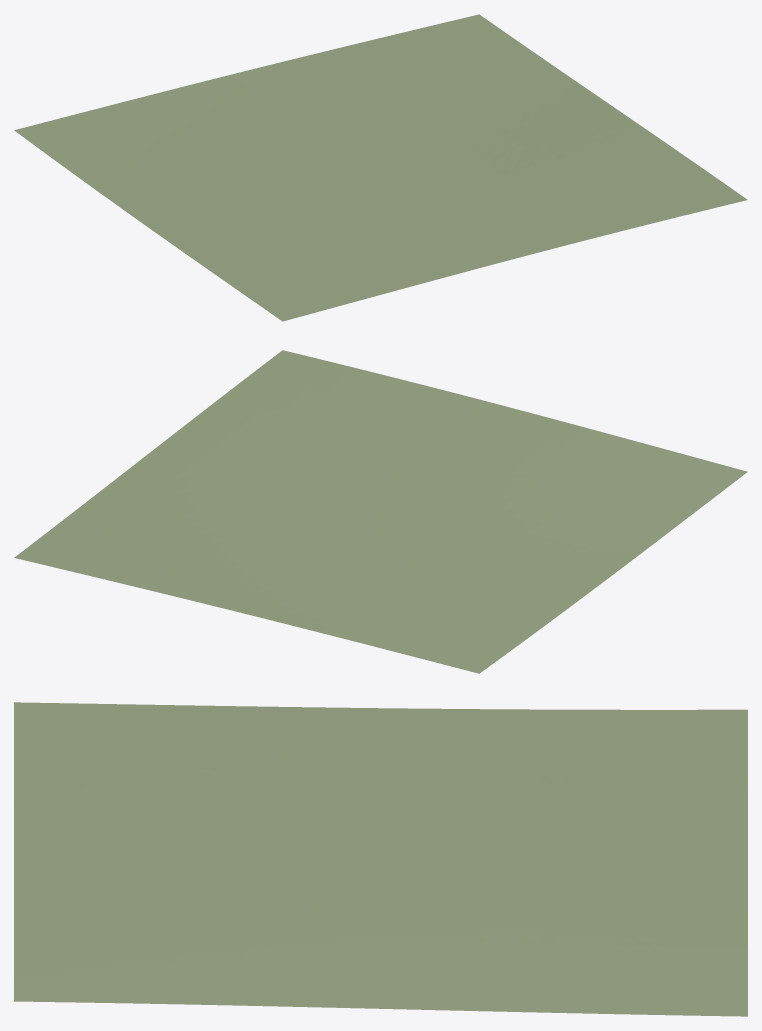
The model's file is expanse-16-24.glb.
The picture shows the model from 3 angles, top to bottom: view 1: azimuth 30°, elevation 25°; view 2: azimuth 150°, elevation 25°; view 3: azimuth 270°, elevation 25°; orthographic projection. The views are drawn at different scales.
Visible parts, largest first — view 1: expanse-16-24; view 2: expanse-16-24; view 3: expanse-16-24.
Boxes of the visible parts, box(x1,y1,x2,y2) form: expanse-16-24: box(14, 14, 747, 321); expanse-16-24: box(14, 350, 747, 673); expanse-16-24: box(14, 702, 747, 1016).
Bounding box in the file's own units: 256 × 7.15 × 256.
